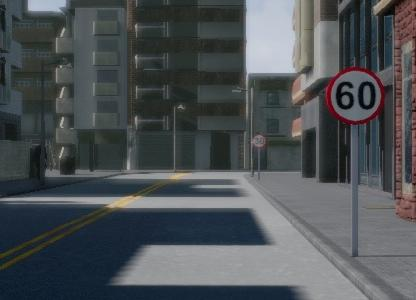Speed_30: (392, 60, 416, 121)
